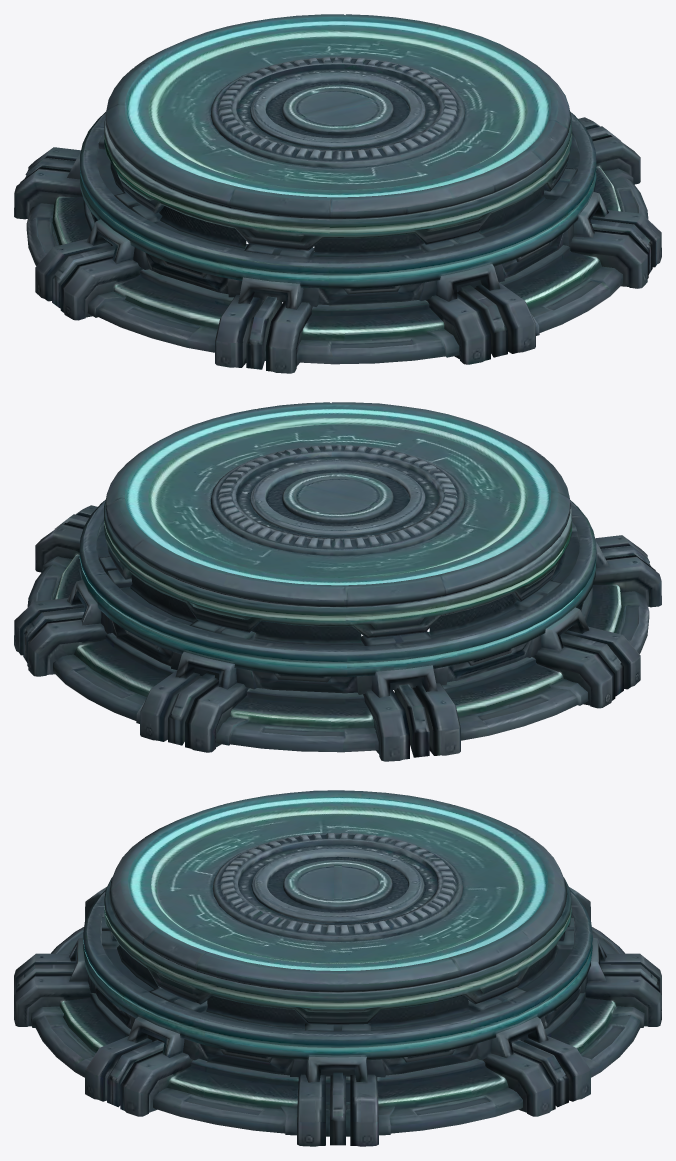
The model's file is platform.m.glb.
3 renders of one model, top to bottom at view 1: azimuth 30°, elevation 25°; view 2: azimuth 150°, elevation 25°; view 3: azimuth 270°, elevation 25°, orthographic.
Parts seen in each view (by area): view 1: tripo_node_6c852c7f; view 2: tripo_node_6c852c7f; view 3: tripo_node_6c852c7f.
Boxes of the visible parts, bbox=[...] form: tripo_node_6c852c7f: bbox=[14, 14, 661, 373]; tripo_node_6c852c7f: bbox=[14, 402, 661, 761]; tripo_node_6c852c7f: bbox=[14, 790, 661, 1146].
Bounding box in the file's own units: 0.9995 × 0.2339 × 0.9995.
Materials: 1 (1 with a texture image).
